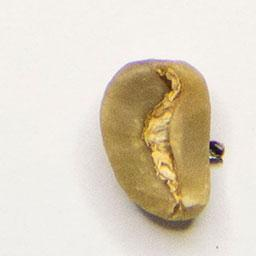longberry: (96, 52, 216, 224)
